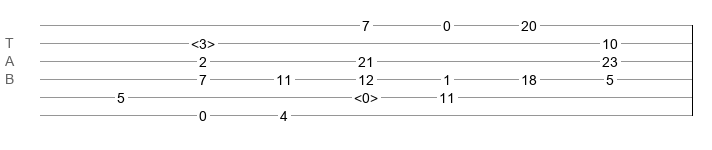0: (199, 108, 207, 118), (443, 18, 451, 28)
1: (443, 72, 451, 82)
10: (602, 36, 618, 46)
11: (276, 72, 292, 82), (439, 90, 455, 100)
12: (358, 72, 374, 82)
18: (521, 72, 537, 82)
2: (199, 54, 207, 64)
20: (521, 18, 537, 28)
21: (358, 54, 374, 64)
23: (602, 54, 618, 64)
4: (280, 108, 288, 118)
5: (117, 90, 125, 100), (606, 72, 614, 82)
7: (199, 72, 207, 82), (362, 18, 370, 28)
harmonic: (191, 36, 215, 46), (354, 90, 378, 100)
